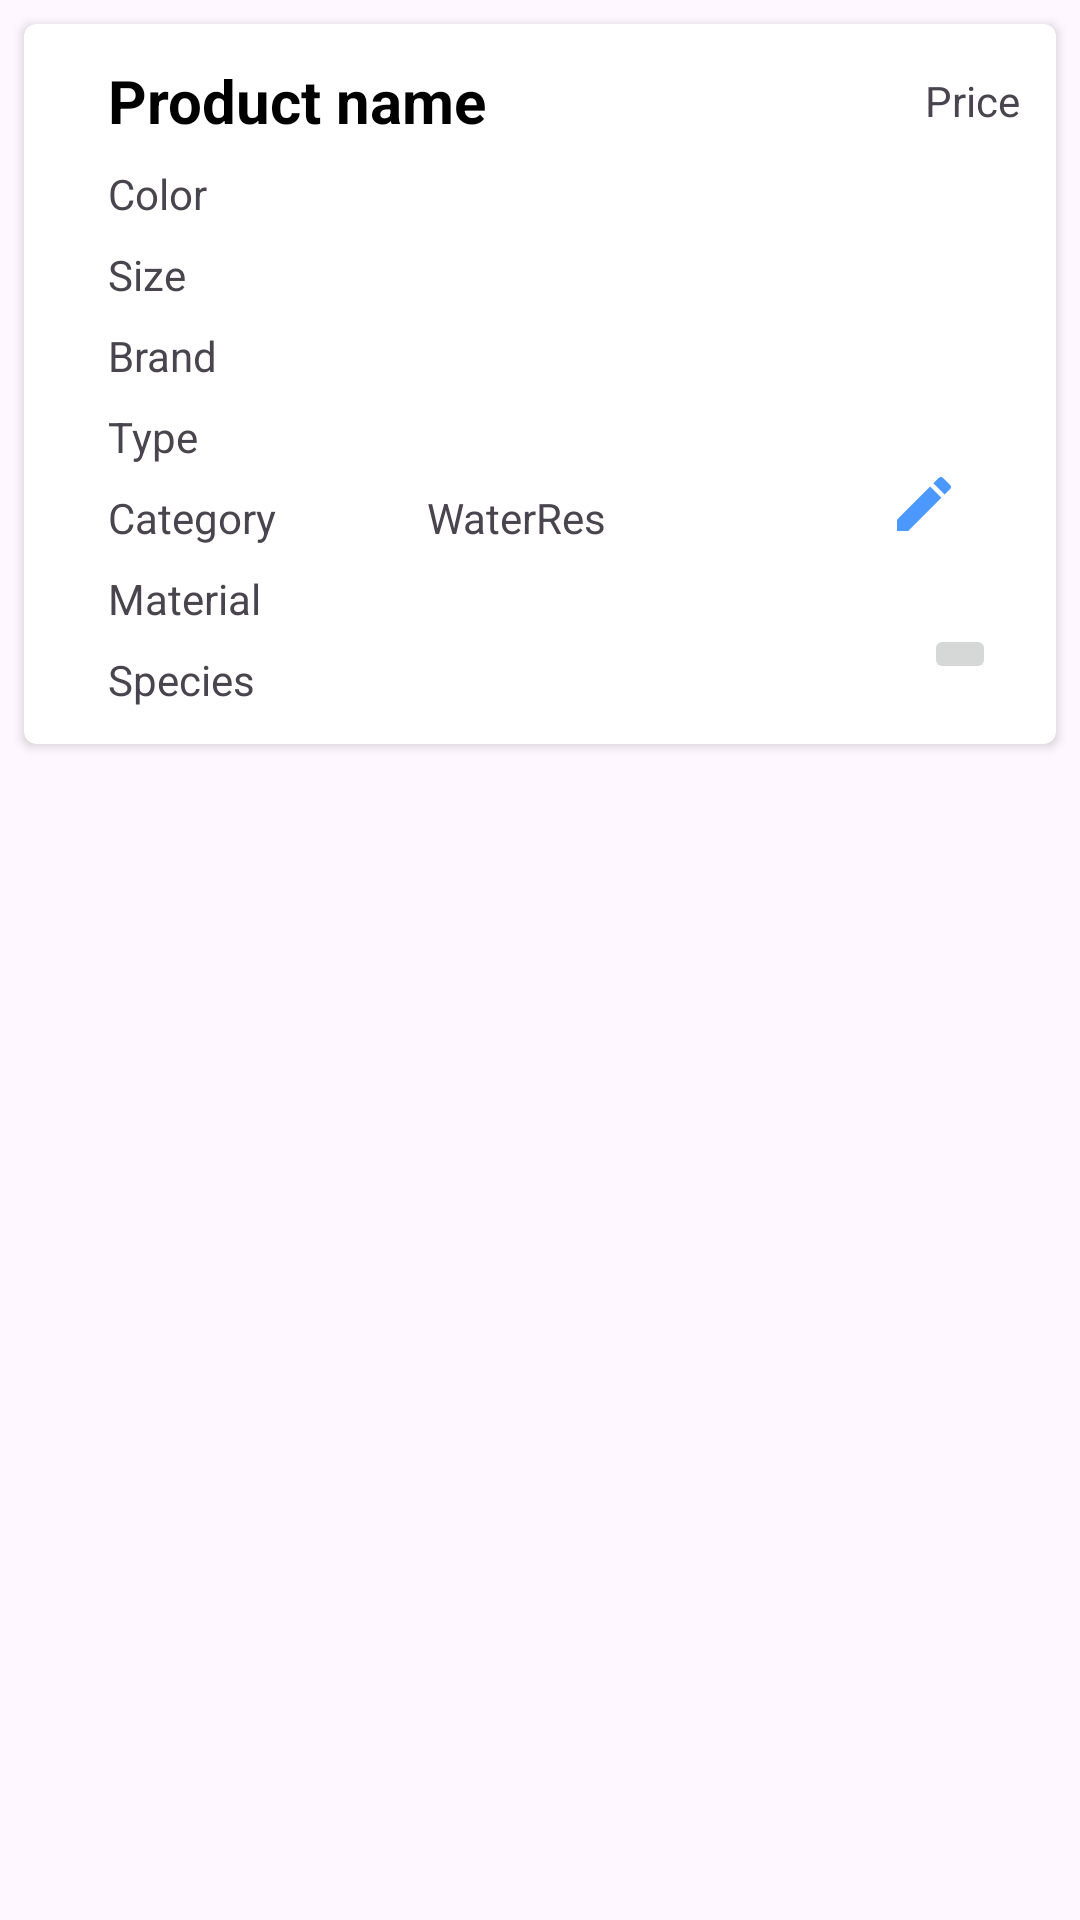

Where icons sit on this 1080px x 1920px app screen, as (x1, y1, x2, y2):
edit: (897, 477, 951, 531)
